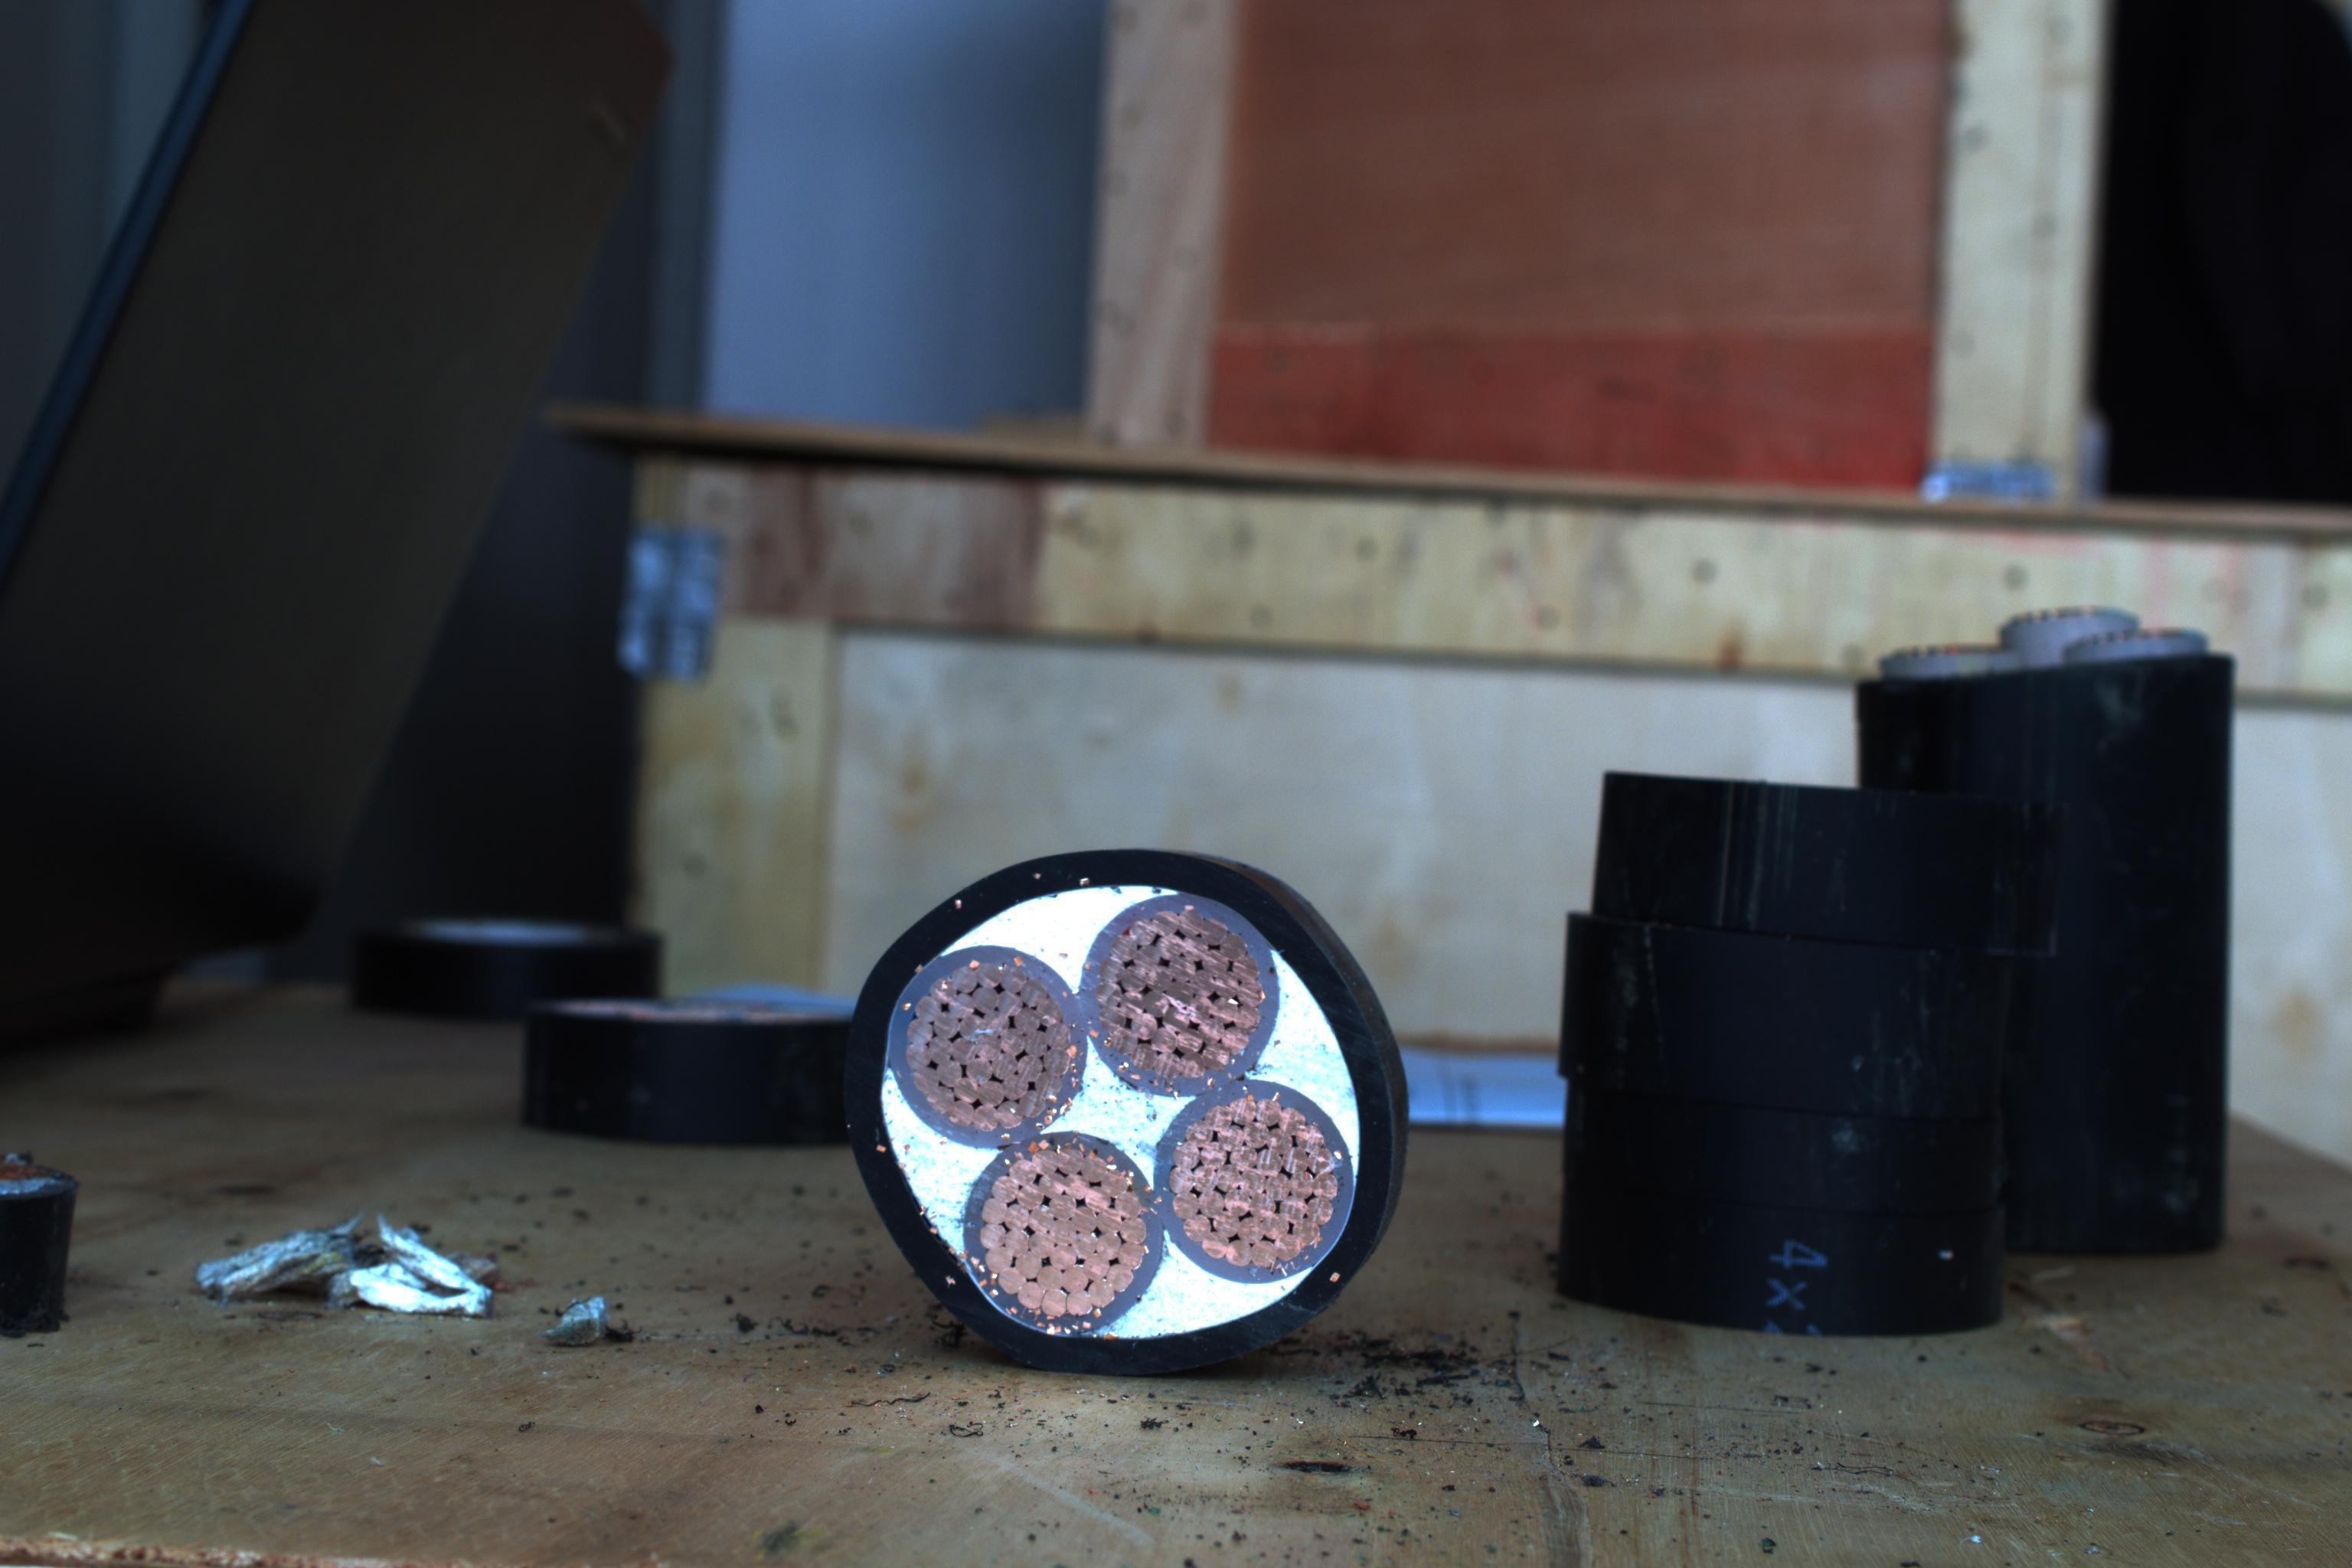YJV_0.6_1kV_4x240: (831, 866, 1407, 1386)
